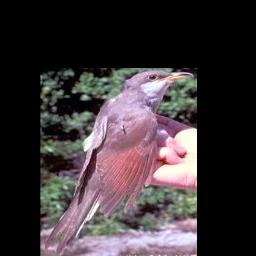Cuckoo: (46, 70, 193, 256)
